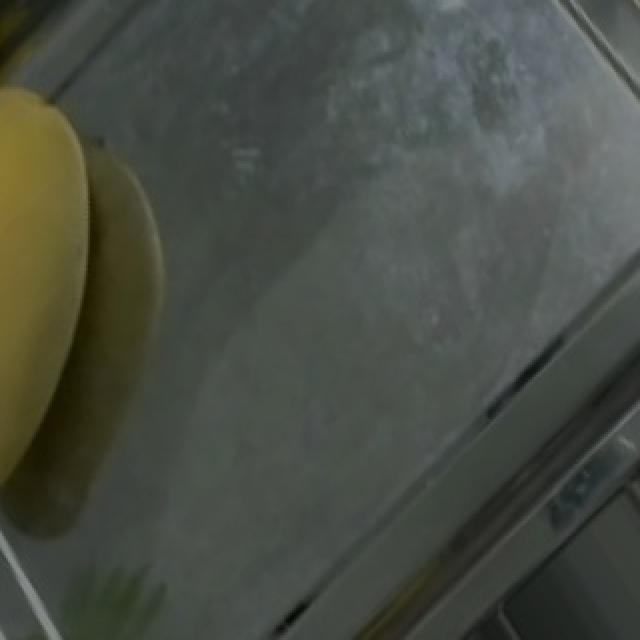fruit: (0, 52, 216, 459)
